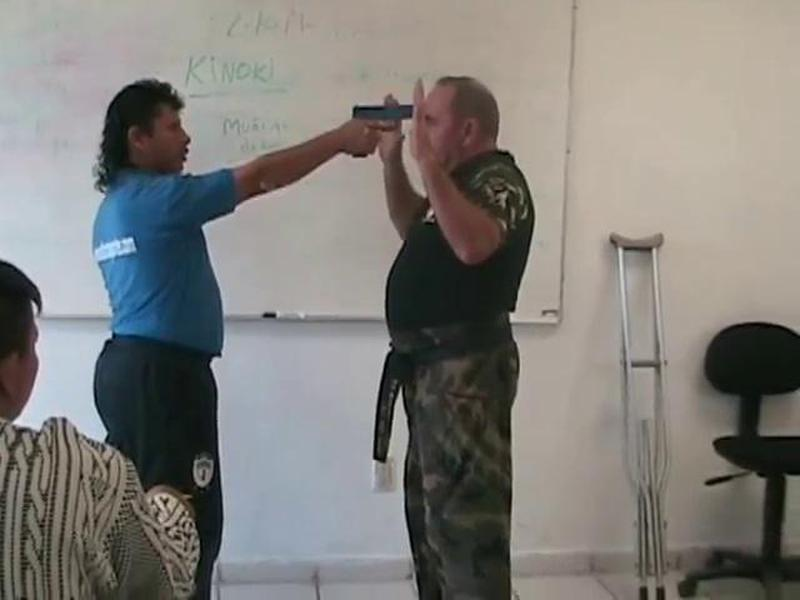Pistola: (347, 97, 419, 136)
